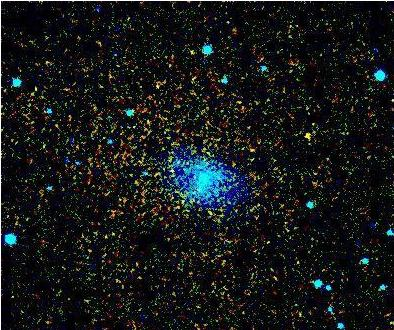star: (297, 121, 327, 151)
